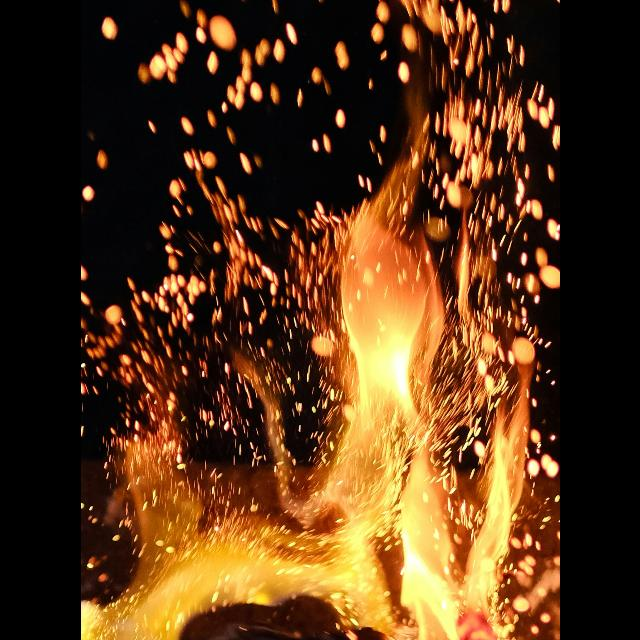fire: (80, 38, 560, 640)
